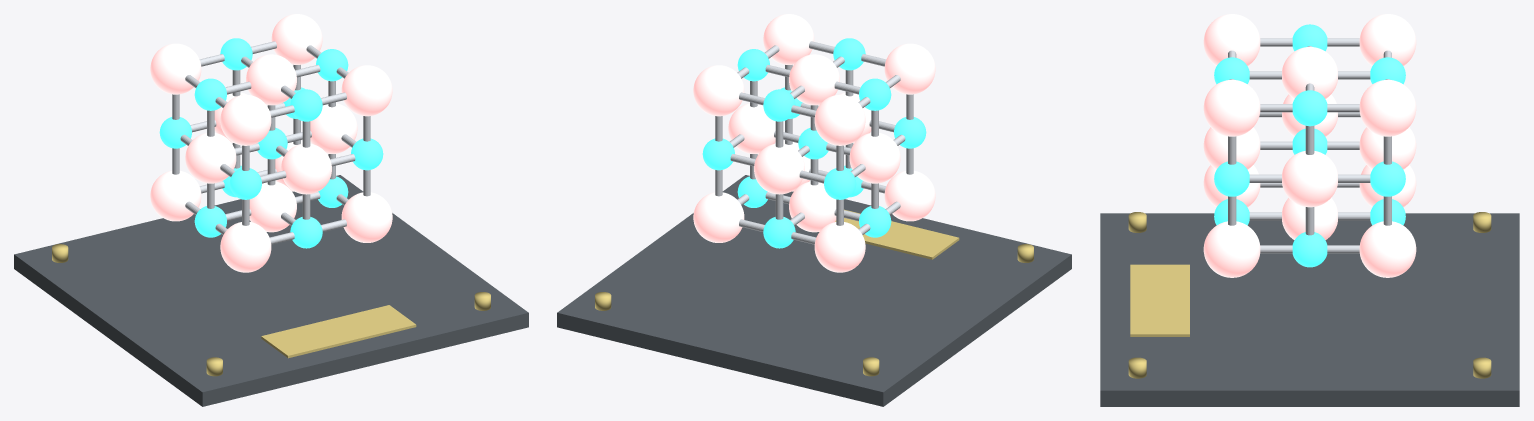
Rendered from magnesium-oxide-lattice.glb.
3 views of the same model, side by side, from view 1: azimuth 30°, elevation 25°; view 2: azimuth 150°, elevation 25°; view 3: azimuth 270°, elevation 25° (orthographic). The views are drawn at different scales.
Parts seen in each view (by area): view 1: magnesium-oxide-lattice_Plinth, magnesium-oxide-lattice_Plaque, magnesium-oxide-lattice_Ion_0_0_2, magnesium-oxide-lattice_Ion_0_0_0, magnesium-oxide-lattice_Ion_2_0_2, magnesium-oxide-lattice_Ion_1_0_1, magnesium-oxide-lattice_Ion_2_0_0, magnesium-oxide-lattice_Ion_0_2_2, magnesium-oxide-lattice_Ion_0_2_0, magnesium-oxide-lattice_Ion_0_1_1, magnesium-oxide-lattice_Ion_1_1_2, magnesium-oxide-lattice_Ion_2_2_2 (+13 smaller); view 2: magnesium-oxide-lattice_Plinth, magnesium-oxide-lattice_Plaque, magnesium-oxide-lattice_Ion_0_2_2, magnesium-oxide-lattice_Ion_0_2_0, magnesium-oxide-lattice_Ion_2_2_2, magnesium-oxide-lattice_Ion_1_2_1, magnesium-oxide-lattice_Ion_2_2_0, magnesium-oxide-lattice_Ion_0_0_2, magnesium-oxide-lattice_Ion_0_0_0, magnesium-oxide-lattice_Ion_0_1_1, magnesium-oxide-lattice_Ion_1_1_2, magnesium-oxide-lattice_Ion_2_0_2 (+13 smaller); view 3: magnesium-oxide-lattice_Plinth, magnesium-oxide-lattice_Plaque, magnesium-oxide-lattice_Ion_2_0_2, magnesium-oxide-lattice_Ion_2_2_2, magnesium-oxide-lattice_Ion_2_0_0, magnesium-oxide-lattice_Ion_2_2_0, magnesium-oxide-lattice_Ion_2_1_1, magnesium-oxide-lattice_Ion_0_0_2, magnesium-oxide-lattice_Ion_0_2_2, magnesium-oxide-lattice_Ion_1_1_2, magnesium-oxide-lattice_Ion_1_0_1, magnesium-oxide-lattice_Ion_1_2_1 (+16 smaller).
Boxes of the visible parts, x1,y1,x2,y2 form: magnesium-oxide-lattice_Plinth: (14,175,528,406); magnesium-oxide-lattice_Plaque: (261,305,416,358); magnesium-oxide-lattice_Ion_0_0_2: (220,94,271,145); magnesium-oxide-lattice_Ion_0_0_0: (220,222,271,272); magnesium-oxide-lattice_Ion_2_0_2: (341,65,392,116); magnesium-oxide-lattice_Ion_1_0_1: (281,143,331,194); magnesium-oxide-lattice_Ion_2_0_0: (341,192,392,242); magnesium-oxide-lattice_Ion_0_2_2: (150,43,201,94); magnesium-oxide-lattice_Ion_0_2_0: (150,170,201,221); magnesium-oxide-lattice_Ion_0_1_1: (185,133,236,183); magnesium-oxide-lattice_Ion_1_1_2: (246,54,296,105); magnesium-oxide-lattice_Ion_2_2_2: (271,14,322,64); magnesium-oxide-lattice_Plinth: (557,175,1071,406); magnesium-oxide-lattice_Plaque: (835,209,959,259); magnesium-oxide-lattice_Ion_0_2_2: (814,94,865,145); magnesium-oxide-lattice_Ion_0_2_0: (814,222,865,272); magnesium-oxide-lattice_Ion_2_2_2: (693,65,744,116); magnesium-oxide-lattice_Ion_1_2_1: (754,143,804,194); magnesium-oxide-lattice_Ion_2_2_0: (693,192,744,242); magnesium-oxide-lattice_Ion_0_0_2: (884,43,935,94); magnesium-oxide-lattice_Ion_0_0_0: (884,170,935,221); magnesium-oxide-lattice_Ion_0_1_1: (849,133,900,183); magnesium-oxide-lattice_Ion_1_1_2: (789,54,839,105); magnesium-oxide-lattice_Ion_2_0_2: (763,14,814,64); magnesium-oxide-lattice_Plinth: (1100,213,1519,406); magnesium-oxide-lattice_Plaque: (1130,264,1189,336); magnesium-oxide-lattice_Ion_2_0_2: (1203,80,1260,136); magnesium-oxide-lattice_Ion_2_2_2: (1359,80,1416,136); magnesium-oxide-lattice_Ion_2_0_0: (1203,221,1260,277); magnesium-oxide-lattice_Ion_2_2_0: (1359,221,1416,277); magnesium-oxide-lattice_Ion_2_1_1: (1282,151,1337,207); magnesium-oxide-lattice_Ion_0_0_2: (1203,14,1260,65); magnesium-oxide-lattice_Ion_0_2_2: (1359,14,1416,65); magnesium-oxide-lattice_Ion_1_1_2: (1282,47,1337,98); magnesium-oxide-lattice_Ion_1_0_1: (1203,127,1260,169); magnesium-oxide-lattice_Ion_1_2_1: (1359,127,1416,169).
Size of the model in its own units: 0.28 by 0.198 by 0.28.
